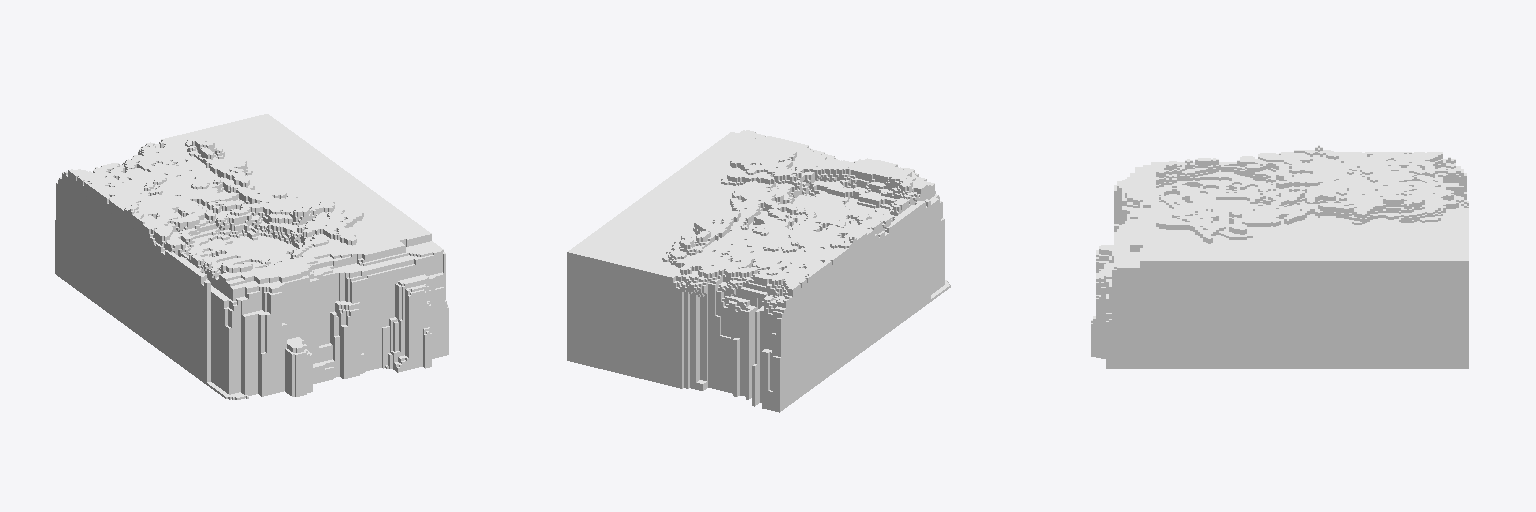
Rendered from Cubeland-10.obj.
3 renders of one model, left to right at view 1: azimuth 30°, elevation 25°; view 2: azimuth 150°, elevation 25°; view 3: azimuth 270°, elevation 25°, orthographic.
Parts seen in each view (by area): view 1: object 1; view 2: object 1; view 3: object 1.
Boxes of the visible parts, x1,y1,x2,y2 form: object 1: [55, 114, 448, 399]; object 1: [567, 130, 950, 412]; object 1: [1091, 145, 1468, 368].
Size of the model in its own units: 9.4 by 5.2 by 14.5.